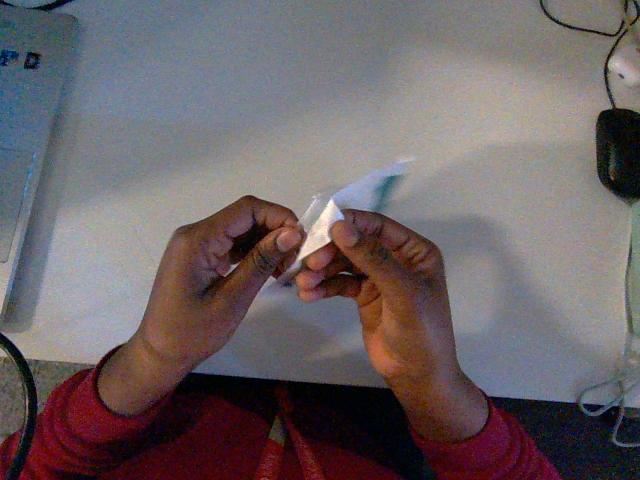gallipot: (278, 159, 411, 284)
